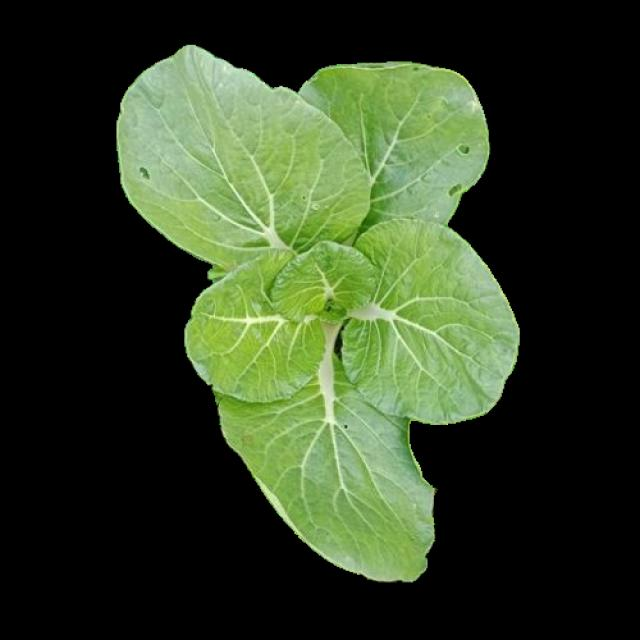mature: (120, 47, 520, 580)
unhealthy: (118, 51, 365, 255), (219, 368, 433, 578), (302, 64, 488, 221)
